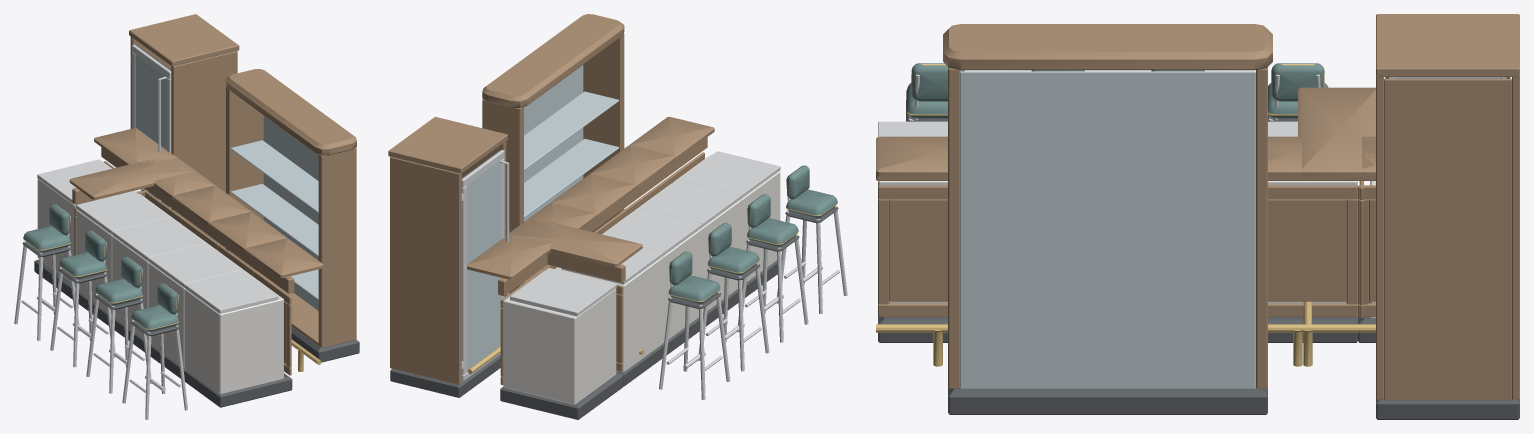
File: cocktail-bar.glb
The picture shows the model from 3 angles, left to right: view 1: azimuth 30°, elevation 25°; view 2: azimuth 150°, elevation 25°; view 3: azimuth 270°, elevation 25°; orthographic projection. The views are drawn at different scales.
Visible parts, largest first — view 1: 058-back-bar-shelving1, 059-wine-display-cabinet1, 053-bar-counter-module1, 058-back-bar-shelving2, 049-bar-counter-corner2, 053-bar-counter-module2, 053-bar-counter-module3, 051-bar-counter-module2, 052-bar-counter-module2, 059-wine-display-cabinetcabinet-doorglass, 052-bar-counter-module3, 051-bar-counter-module3 (+22 smaller); view 2: 059-wine-display-cabinet1, 058-back-bar-shelving1, 049-bar-counter-corner1, 049-bar-counter-corner2, 058-back-bar-shelving2, 059-wine-display-cabinetcabinet-doorglass, 050-bar-counter-module1, 049-bar-counter-corner3, 052-bar-counter-module2, 053-bar-counter-module2, 051-bar-counter-module2, 053-bar-counter-module3 (+20 smaller); view 3: 058-back-bar-shelving2, 059-wine-display-cabinet1, 058-back-bar-shelving1, 050-bar-counter-module2, 053-bar-counter-module2, 049-bar-counter-corner2, 058-back-bar-shelving0, 059-wine-display-cabinet0, 054-bar-stool2, 057-bar-stool2, 050-bar-counter-module0, 053-bar-counter-module0 (+5 smaller).
Part boxes in pixels (x1,y1,x2,y2): 058-back-bar-shelving1: (226,69,356,348); 059-wine-display-cabinet1: (129,14,239,248); 053-bar-counter-module1: (184,273,283,394); 058-back-bar-shelving2: (230,116,318,310); 049-bar-counter-corner2: (69,128,195,285); 053-bar-counter-module2: (244,238,323,375); 053-bar-counter-module3: (184,270,278,313); 051-bar-counter-module2: (172,185,251,250); 052-bar-counter-module2: (208,212,287,276); 059-wine-display-cabinetcabinet-doorglass: (135,54,166,205); 052-bar-counter-module3: (148,243,241,287); 051-bar-counter-module3: (112,217,205,260); 059-wine-display-cabinet1: (388,116,507,384); 058-back-bar-shelving1: (482,14,624,293); 049-bar-counter-corner1: (503,271,616,404); 049-bar-counter-corner2: (467,217,642,385); 058-back-bar-shelving2: (524,65,619,221); 059-wine-display-cabinetcabinet-doorglass: (466,161,501,371); 050-bar-counter-module1: (555,257,662,372); 049-bar-counter-corner3: (510,268,616,316); 052-bar-counter-module2: (590,145,675,215); 053-bar-counter-module2: (629,116,714,187); 051-bar-counter-module2: (551,174,636,234); 053-bar-counter-module3: (679,151,780,198); 058-back-bar-shelving2: (960,71,1255,388); 059-wine-display-cabinet1: (1376,14,1519,400); 058-back-bar-shelving1: (943,24,1272,388); 050-bar-counter-module2: (1268,136,1358,316); 053-bar-counter-module2: (876,136,947,316); 049-bar-counter-corner2: (1298,87,1375,317); 058-back-bar-shelving0: (948,388,1267,414); 059-wine-display-cabinet0: (1376,399,1519,419); 054-bar-stool2: (1268,63,1328,118); 057-bar-stool2: (906,63,964,118); 050-bar-counter-module0: (1268,316,1357,342); 053-bar-counter-module0: (878,316,947,342).
Bounding box in the file's own units: 2.28 × 1.99 × 3.22.
